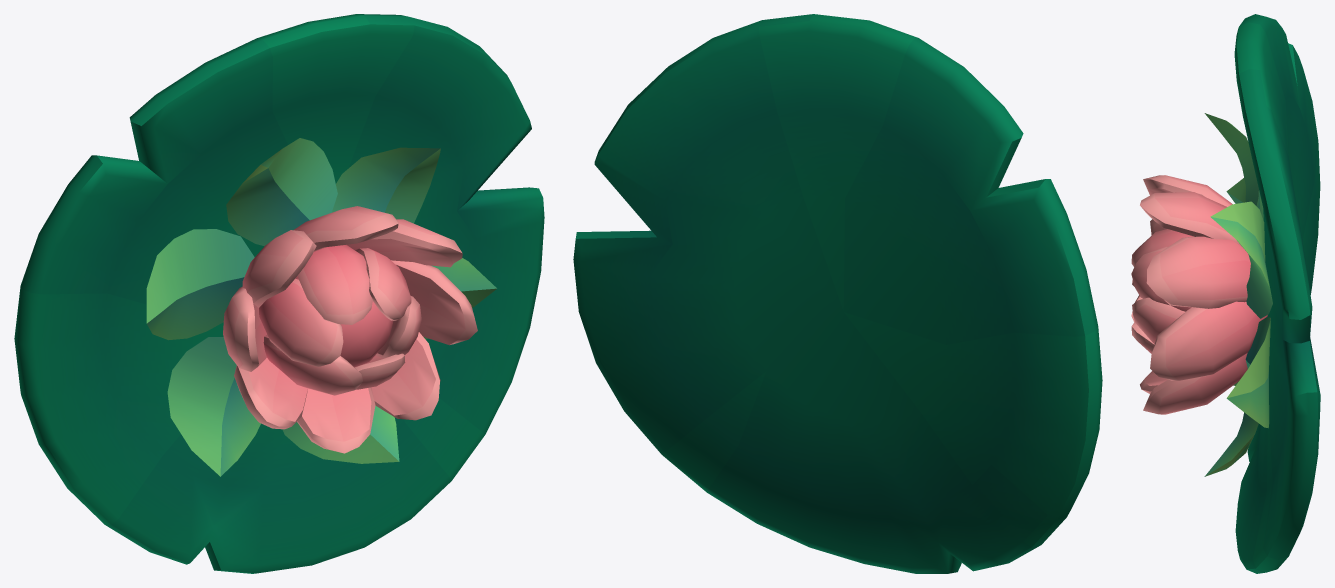
The model's file is kk_mystery6_plantwarrior_shield.glb.
3 renders of one model, left to right at view 1: azimuth 30°, elevation 25°; view 2: azimuth 150°, elevation 25°; view 3: azimuth 270°, elevation 25°, orthographic. The views are drawn at different scales.
Visible parts, largest first — view 1: PlantWarrior_Shield; view 2: PlantWarrior_Shield; view 3: PlantWarrior_Shield.
Part boxes in pixels (box(x1,y1,x2,y2)): PlantWarrior_Shield: box(14, 14, 544, 573); PlantWarrior_Shield: box(573, 14, 1102, 573); PlantWarrior_Shield: box(1131, 14, 1320, 573).
Size of the model in its own units: 0.9914 by 0.9749 by 0.3313.
1 material, 1 textured.
